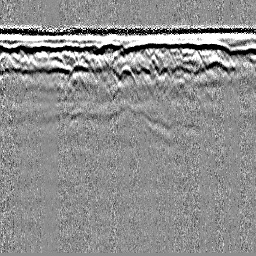cavity: (119, 64, 135, 87)
